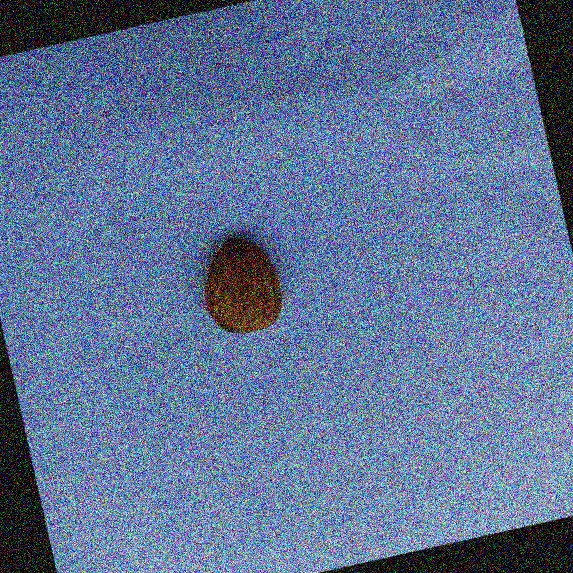grade1: (186, 222, 299, 348)
